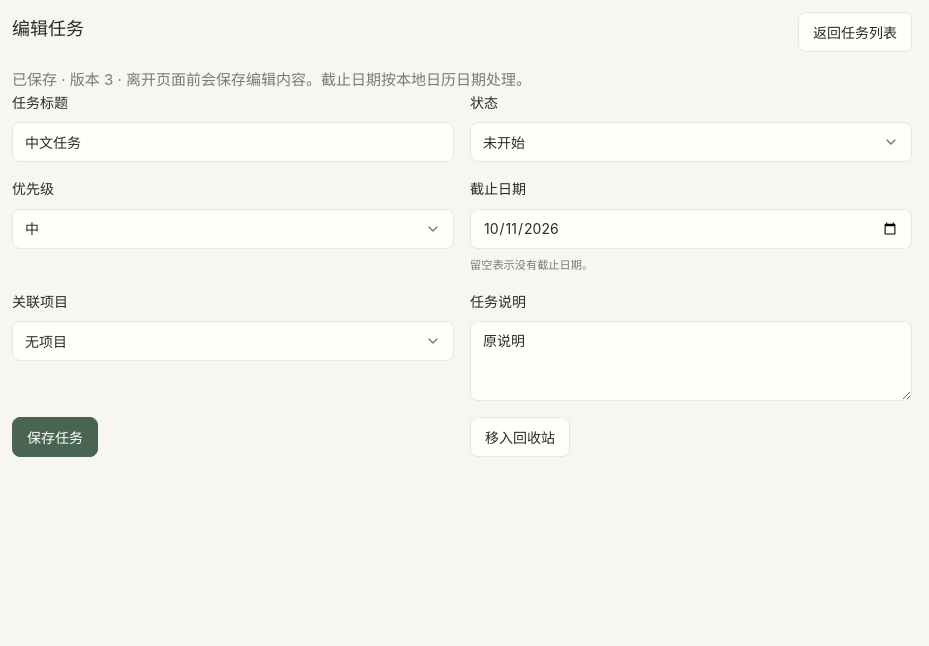
Test: 删除必须使用已展示的 revision，不能先读取最新版本再静默删除
Click the button "移入回收站": [520, 437] box x1=470 y1=417 x2=570 y2=457
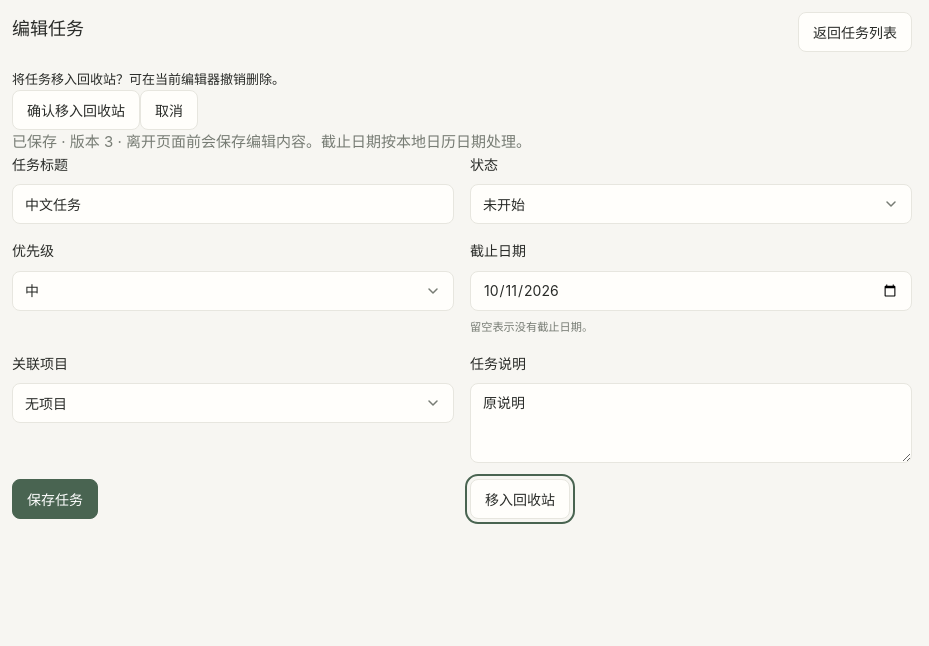
Click the button "确认移入回收站": [76, 110] box x1=12 y1=90 x2=140 y2=130
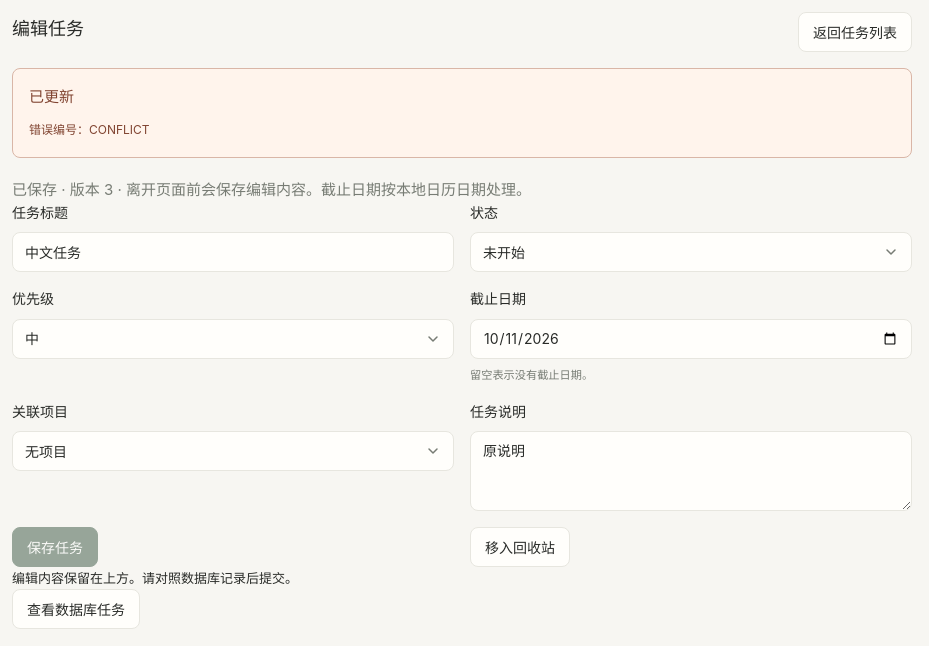
expect the field labelled "任务标题" holds "中文任务": met, box x1=12 y1=232 x2=454 y2=272
expect the message "已更新 错误编号：CONFLICT" is shown: met, box x1=12 y1=68 x2=912 y2=158
